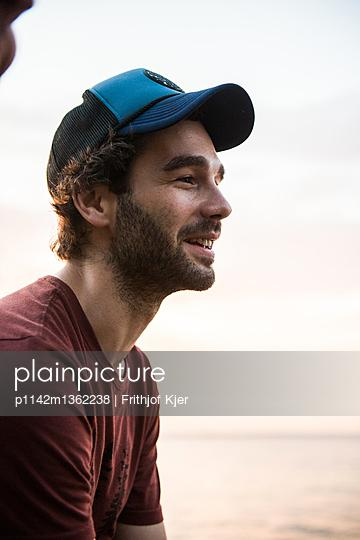cap: (34, 54, 257, 191)
